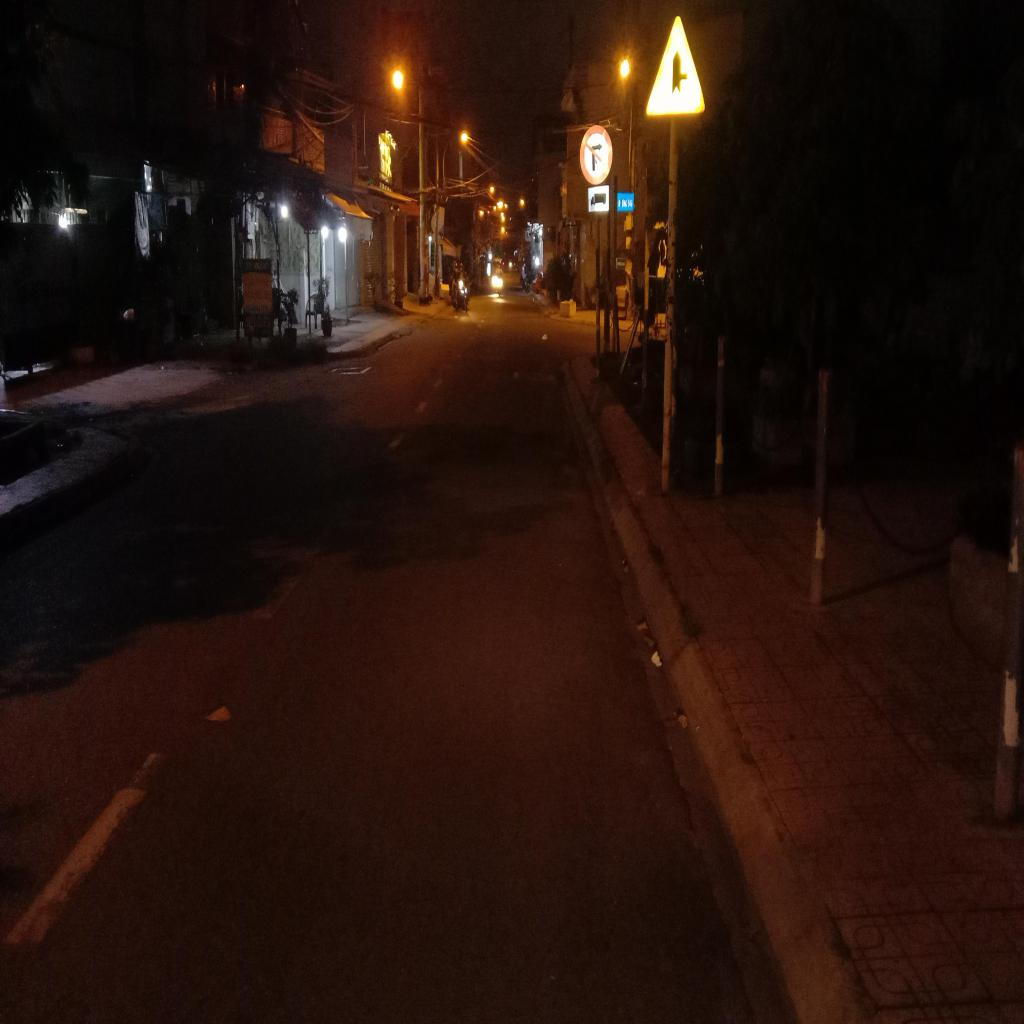cam_re_phai: (579, 123, 615, 186)
giao_nhau_voi_duong_khong_uu_tien: (643, 12, 707, 116)
khac: (588, 184, 610, 212)
